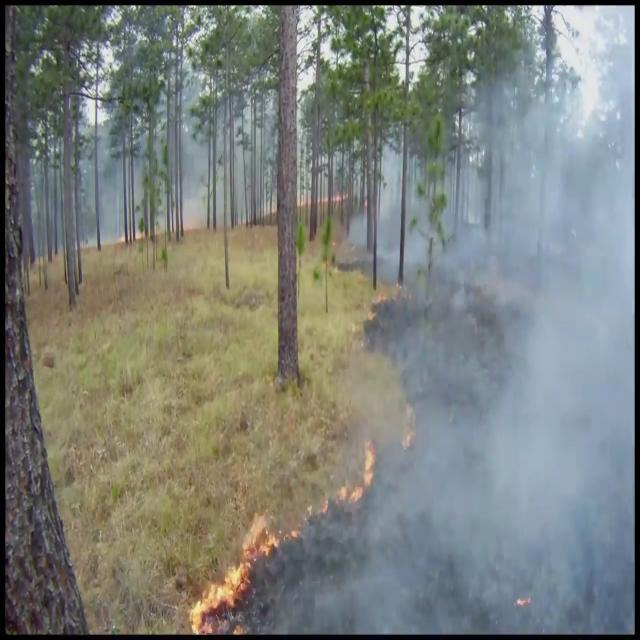Fire: (188, 520, 276, 634), (338, 440, 378, 510)
Smoke: (320, 36, 634, 634)
